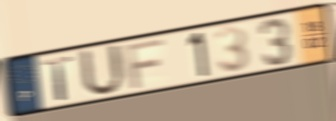1: (187, 30, 210, 79)
3: (258, 16, 293, 69), (215, 23, 250, 76)
F: (123, 37, 166, 90)
T: (41, 53, 76, 103)
U: (77, 43, 127, 98)
